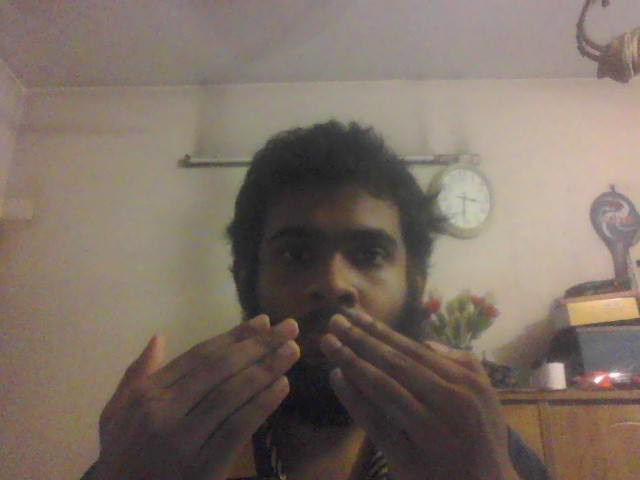Thank You: (103, 313, 530, 480)
